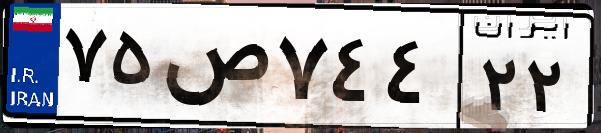2: (475, 38, 525, 113), (525, 38, 570, 115)
4: (385, 28, 445, 110), (330, 28, 385, 110)
5: (110, 28, 158, 98)
7: (270, 28, 330, 110), (57, 26, 110, 100)
ص: (158, 20, 270, 120)
